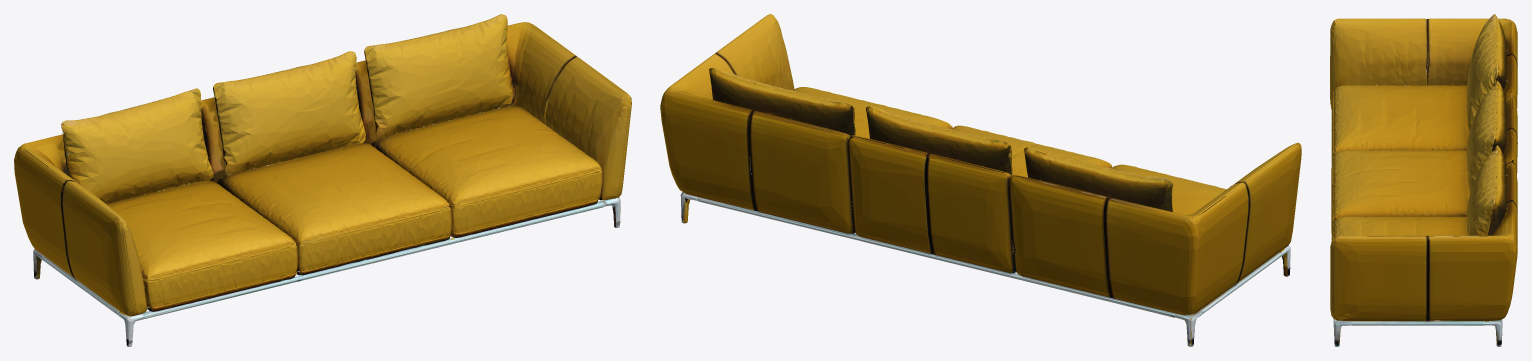
File: edited_mesh.glb
3 views of the same model, side by side, from view 1: azimuth 30°, elevation 25°; view 2: azimuth 150°, elevation 25°; view 3: azimuth 270°, elevation 25° (orthographic). The views are drawn at different scales.
Visible parts, largest first — view 1: solid_001_wire; view 2: solid_001_wire; view 3: solid_001_wire.
Boxes of the visible parts, bbox=[...] form: solid_001_wire: bbox=[14, 14, 631, 346]; solid_001_wire: bbox=[660, 14, 1301, 346]; solid_001_wire: bbox=[1330, 14, 1517, 346].
Bounding box in the file's own units: 2 × 0.5632 × 0.7137.
1 material, 1 textured.
